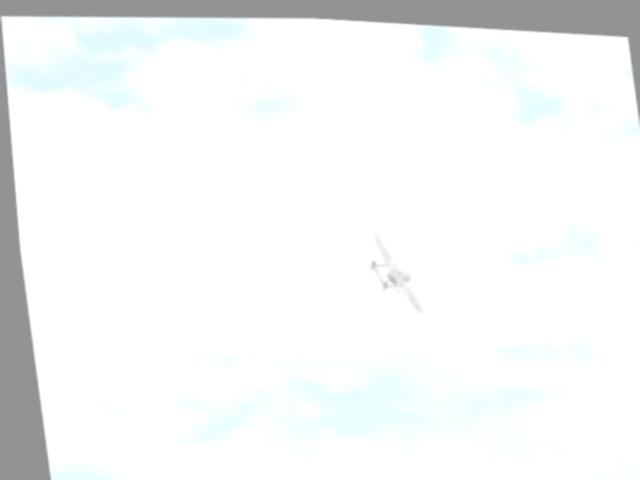uav: (359, 219, 423, 313)
